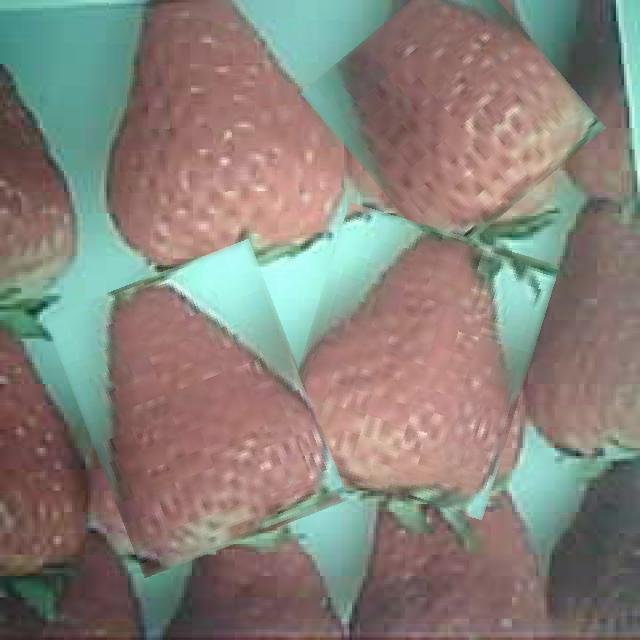strawberry: (65, 254, 328, 564), (289, 214, 543, 506), (324, 0, 583, 244), (110, 0, 345, 266)
